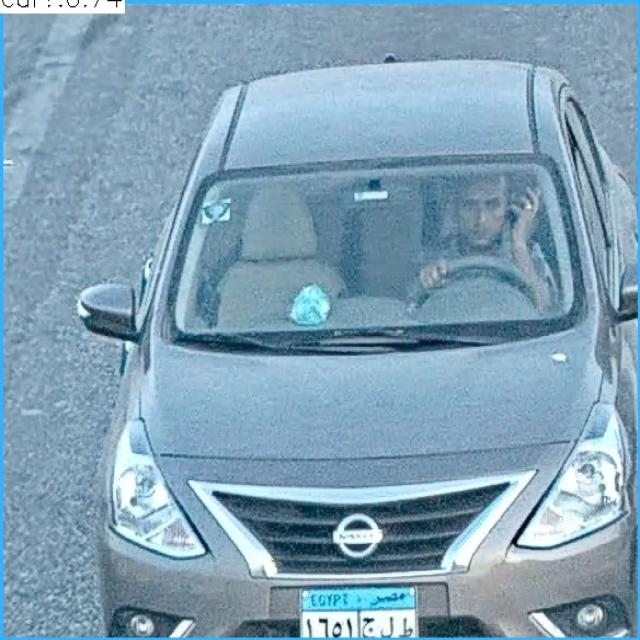windshield: (163, 166, 580, 345)
